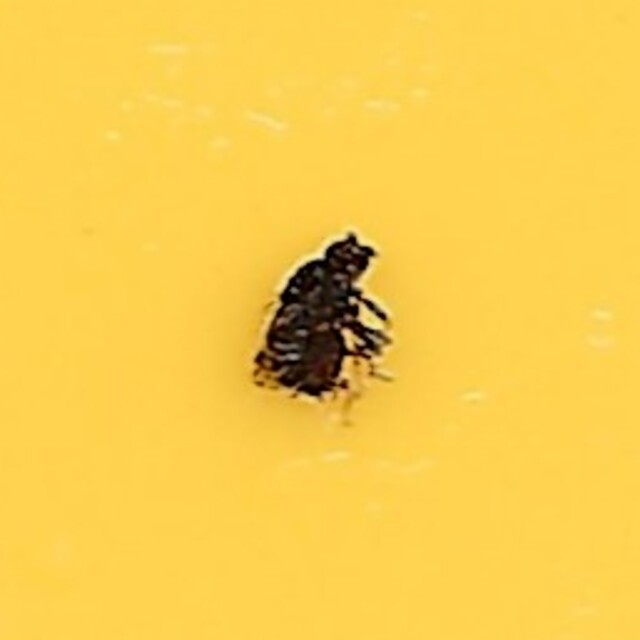Brachycera: (249, 237, 391, 403)
